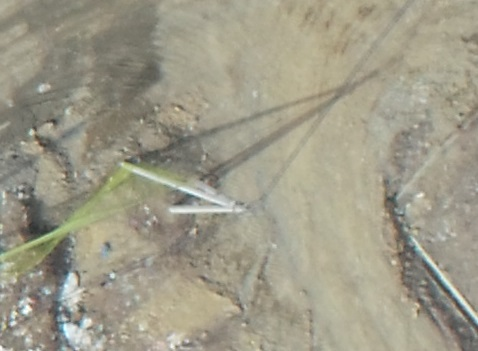opora: (119, 141, 270, 219)
